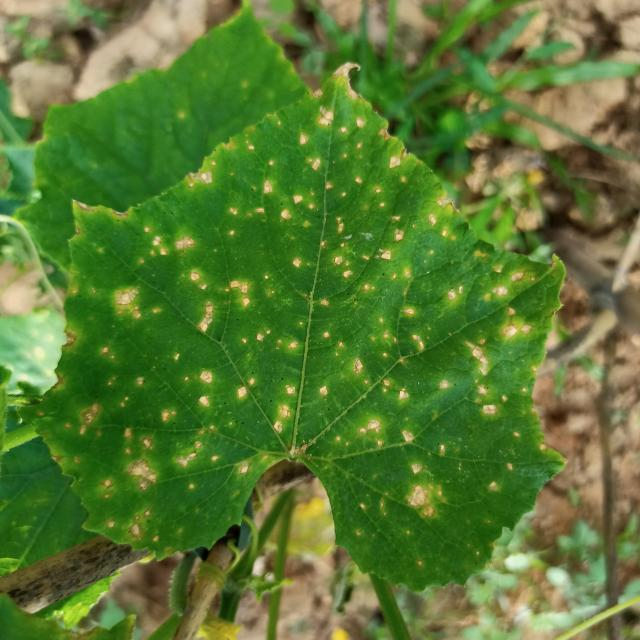disease_cucumber: (108, 105, 518, 326), (55, 277, 299, 546), (291, 294, 550, 544)
